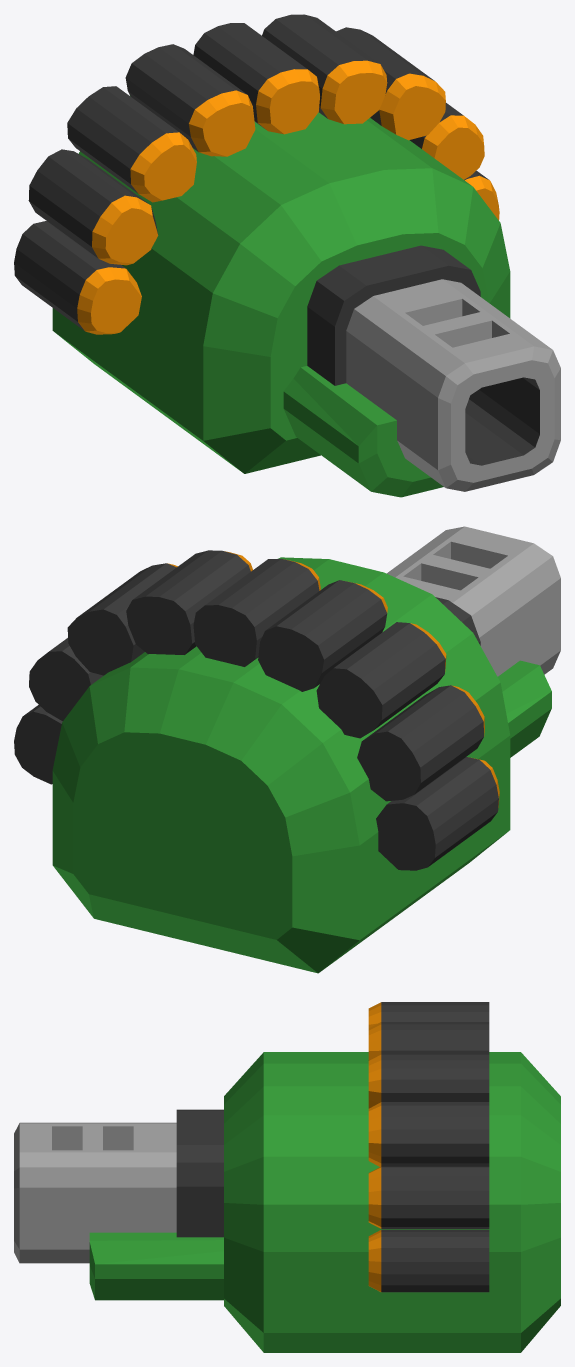
Rendered from shotgun_cannon.fbx.
3 renders of one model, top to bottom at view 1: azimuth 30°, elevation 25°; view 2: azimuth 150°, elevation 25°; view 3: azimuth 270°, elevation 25°, orthographic. The views are drawn at different scales.
Visible parts, largest first — view 1: Cube.013, Cube.015, Cube.016, Cube.019, Cube.017; view 2: Cube.013, Cube.015, Cube.016, Cube.019; view 3: Cube.013, Cube.015, Cube.016, Cube.019, Cube.017.
Boxes of the visible parts, bbox=[...] form: Cube.013: bbox=[52, 96, 510, 473]; Cube.015: bbox=[14, 14, 499, 334]; Cube.016: bbox=[346, 279, 560, 491]; Cube.019: bbox=[283, 366, 443, 497]; Cube.017: bbox=[307, 245, 480, 385]; Cube.013: bbox=[52, 557, 510, 973]; Cube.015: bbox=[14, 550, 499, 870]; Cube.016: bbox=[387, 526, 560, 676]; Cube.019: bbox=[498, 660, 551, 757]; Cube.013: bbox=[224, 1052, 560, 1352]; Cube.015: bbox=[368, 1002, 489, 1292]; Cube.016: bbox=[14, 1122, 176, 1263]; Cube.019: bbox=[89, 1232, 223, 1300]; Cube.017: bbox=[176, 1109, 223, 1237].
Size of the model in its own units: 101 by 74.64 by 133.
